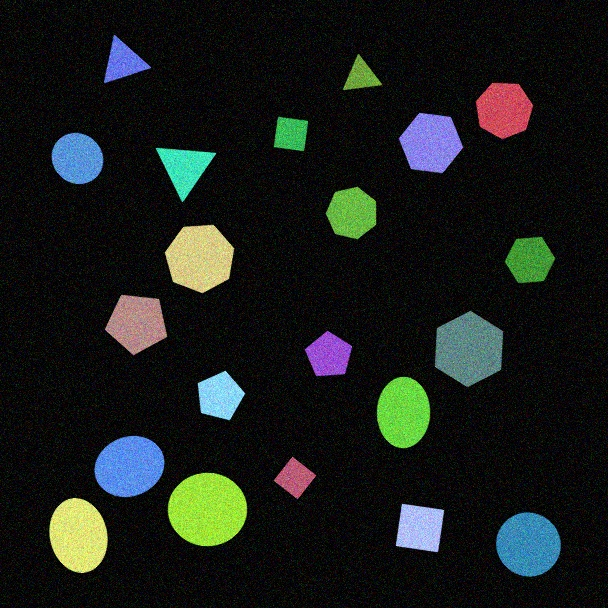Circulo: (167, 472, 248, 547), (495, 512, 562, 577), (51, 132, 104, 185)
Elipse: (49, 497, 108, 574), (94, 435, 165, 498), (376, 376, 431, 449)
Heptagono: (164, 224, 235, 294), (475, 82, 534, 140), (325, 186, 377, 240)
Hexagono: (434, 310, 504, 388), (398, 112, 464, 174), (504, 236, 556, 284)
Pentagono: (104, 294, 168, 356), (197, 370, 246, 421), (304, 330, 353, 377)
Quadrado: (395, 503, 445, 553), (273, 456, 317, 500), (273, 116, 309, 152)
Triangulo: (155, 147, 217, 203), (103, 34, 152, 84), (342, 54, 383, 91)
